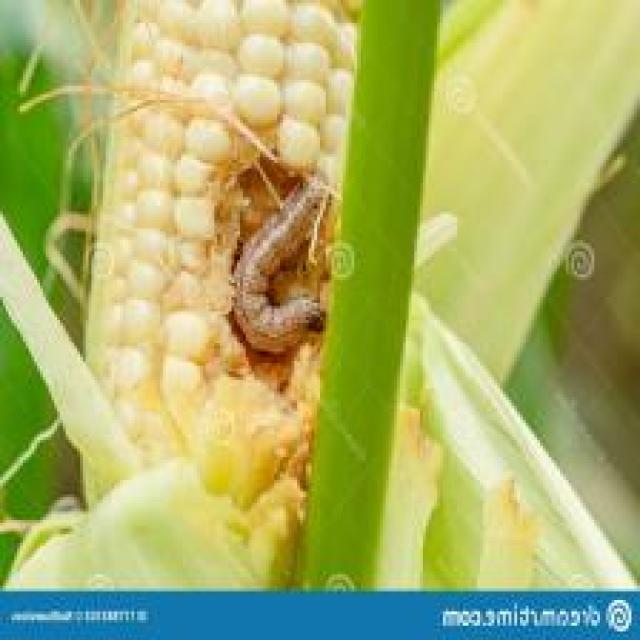Plaga: (223, 161, 340, 381)
